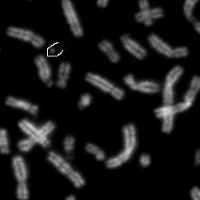chromosome: (155, 77, 200, 117), (47, 152, 84, 188), (163, 65, 182, 135), (107, 124, 137, 168), (18, 122, 56, 150), (86, 72, 124, 98), (149, 34, 187, 57), (61, 0, 83, 37), (183, 0, 200, 47), (19, 120, 49, 146), (7, 26, 44, 47), (13, 155, 28, 200), (121, 33, 146, 58), (6, 95, 37, 115), (124, 75, 157, 93), (35, 55, 53, 86), (99, 39, 119, 62), (135, 8, 163, 22), (85, 143, 105, 160), (139, 0, 152, 26), (56, 62, 69, 87), (0, 128, 8, 154), (62, 135, 73, 152), (77, 95, 89, 110), (139, 154, 151, 167), (98, 0, 118, 7), (190, 188, 200, 200), (65, 196, 90, 200), (194, 150, 200, 165)
